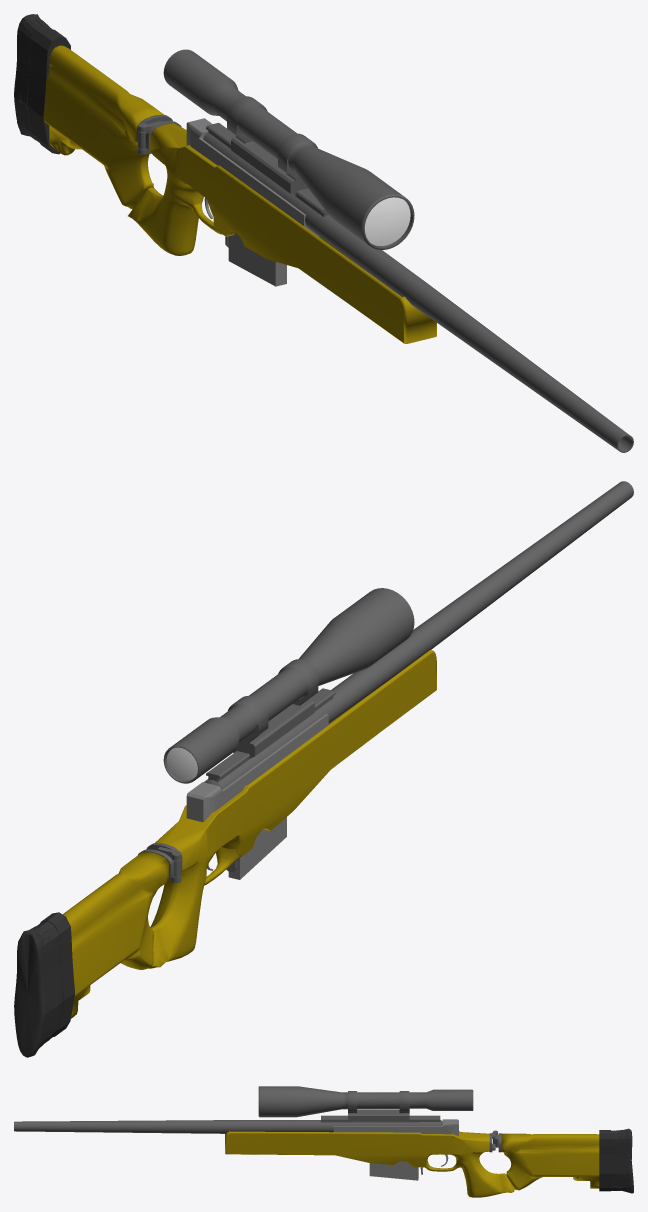
3 views of the same model, one above another, from view 1: azimuth 30°, elevation 25°; view 2: azimuth 150°, elevation 25°; view 3: azimuth 270°, elevation 25° (orthographic). The views are drawn at different scales.
Parts seen in each view (by area): view 1: Body1, Scope, Barrel, Butt, ShoulderGuard, BarrelHolder, ScopeHolder, Magazine, PicatinnyRail; view 2: Body1, Scope, Barrel, Butt, ShoulderGuard, BarrelHolder, ScopeHolder, Magazine, PicatinnyRail; view 3: Body1, Scope, Butt, Barrel, ShoulderGuard, BarrelHolder, ScopeHolder, Magazine, PicatinnyRail.
Boxes of the visible parts, box(x1,y1,x2,y2) form: Body1: box(128, 123, 436, 343); Scope: box(163, 49, 414, 249); Barrel: box(203, 132, 633, 452); Butt: box(43, 45, 163, 209); ShoulderGuard: box(14, 14, 70, 154); BarrelHolder: box(186, 118, 319, 236); ScopeHolder: box(227, 119, 307, 195); Magazine: box(228, 232, 286, 286); PicatinnyRail: box(206, 122, 328, 216); Body1: box(148, 650, 436, 968); Scope: box(163, 588, 414, 783); Barrel: box(204, 481, 633, 789); Butt: box(62, 852, 169, 1018); ShoulderGuard: box(14, 912, 74, 1057); BarrelHolder: box(186, 714, 328, 822); ScopeHolder: box(233, 685, 318, 758); Magazine: box(228, 817, 286, 879); PicatinnyRail: box(206, 688, 335, 782); Body1: box(225, 1131, 514, 1197); Scope: box(258, 1086, 473, 1117); Butt: box(501, 1133, 599, 1190); Barrel: box(14, 1120, 442, 1133); ShoulderGuard: box(599, 1128, 633, 1193); BarrelHolder: box(333, 1119, 458, 1136); ScopeHolder: box(348, 1105, 409, 1121); Magazine: box(369, 1161, 418, 1180); PicatinnyRail: box(321, 1115, 440, 1122).
Size of the model in its own units: 1.56 by 5.95 by 30.76.
